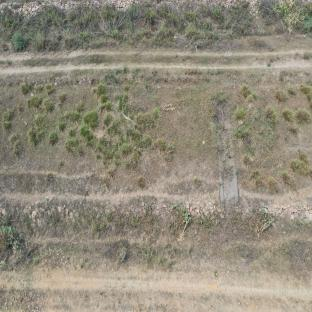rock_toe: (0, 193, 219, 246), (243, 193, 312, 250)
slope_drain: (209, 94, 243, 207)
